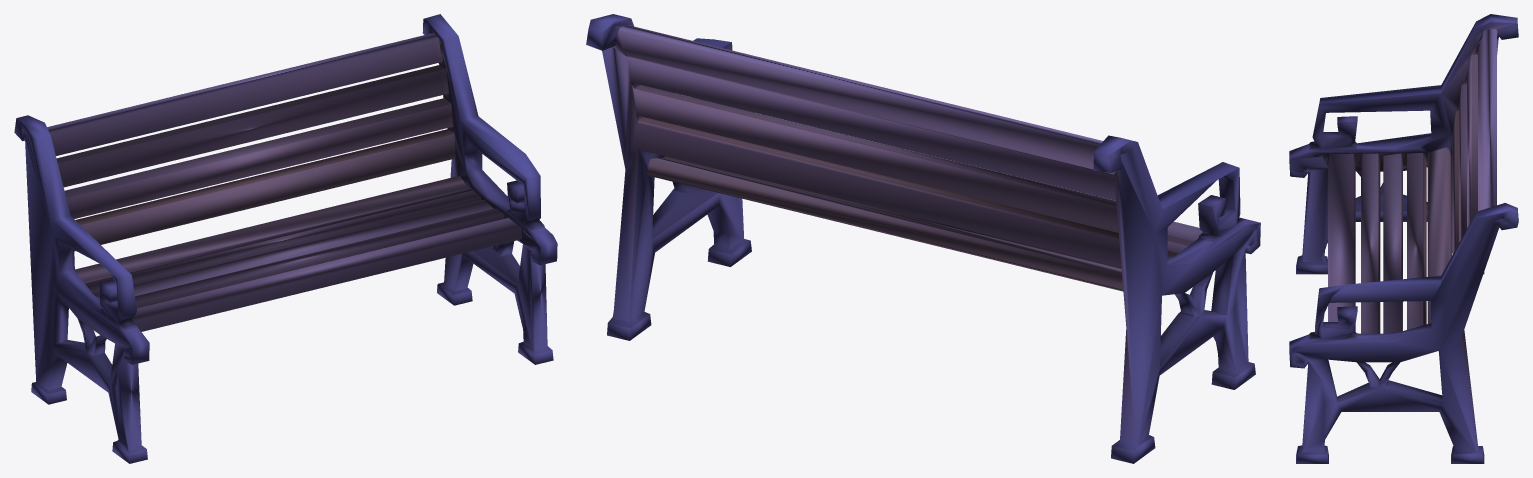
Rendered from model.progressive.glb.
The picture shows the model from 3 angles, left to right: view 1: azimuth 30°, elevation 25°; view 2: azimuth 150°, elevation 25°; view 3: azimuth 270°, elevation 25°; orthographic projection. The views are drawn at different scales.
Parts seen in each view (by area): view 1: mesh_input; view 2: mesh_input; view 3: mesh_input.
Part boxes in pixels (<box>): mesh_input: <box>14,14,557,463</box>; mesh_input: <box>586,14,1260,463</box>; mesh_input: <box>1289,14,1518,463</box>.
Size of the model in its own units: 1.9 by 1.13 by 0.9259.
1 material, 1 textured.
